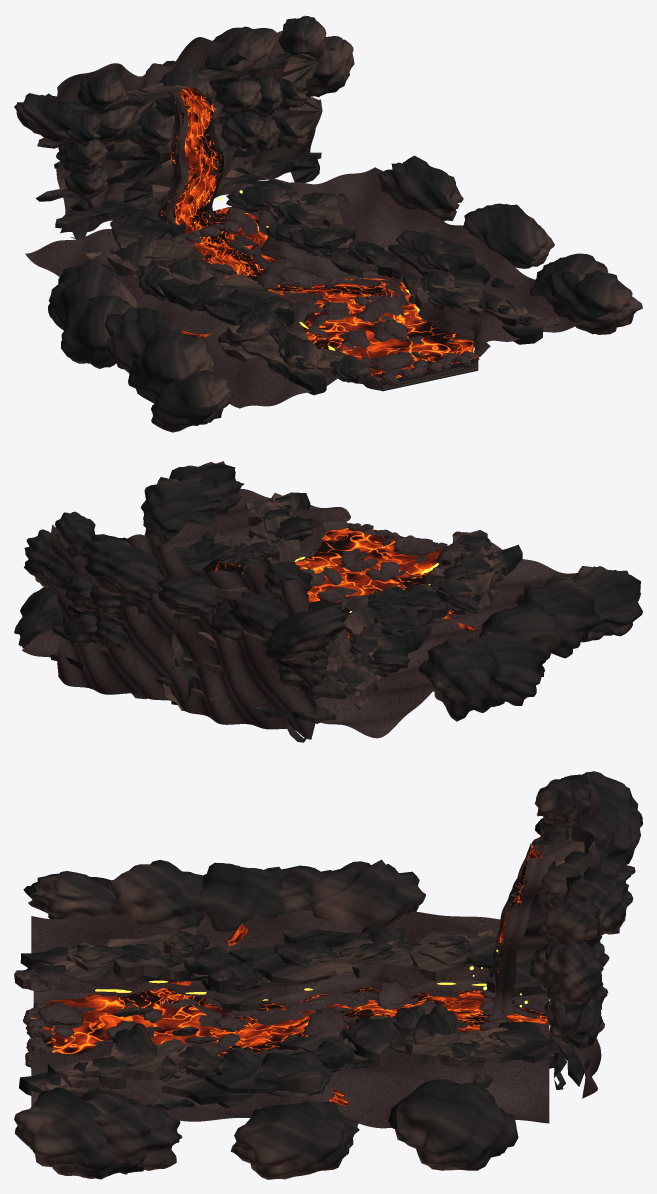
File: b4-magma-river-v16.glb
The picture shows the model from 3 angles, top to bottom: view 1: azimuth 30°, elevation 25°; view 2: azimuth 150°, elevation 25°; view 3: azimuth 270°, elevation 25°; orthographic projection. The views are drawn at different scales.
Visible parts, largest first — view 1: ERODED_BASALT_BANK_1, ERODED_BASALT_BANK_-1, CONTINUOUS_FRACTURED_BASALT_CLIFF, MEANDERING_MOLTEN_CHANNEL, FALLING_MAGMA_CASCADE, MOLTEN_POOL_WIDENING, CAVERN_ROCK_FACE, CAVERN_ROCK_FACE.001, CAVERN_ROCK_FACE.008, CAVERN_ROCK_FACE.005, CAVERN_ROCK_FACE.004, CAVERN_ROCK_FACE.007 (+49 smaller); view 2: CONTINUOUS_FRACTURED_BASALT_CLIFF, ERODED_BASALT_BANK_-1, CAVERN_ROCK_FACE.009, ERODED_BASALT_BANK_1, MOLTEN_POOL_WIDENING, REAR_IRREGULAR_BASALT_OVERHANG.003, CAVERN_ROCK_FACE.006, CAVERN_ROCK_FACE.001, CAVERN_ROCK_FACE.005, REAR_IRREGULAR_BASALT_OVERHANG, CAVERN_ROCK_FACE.007, CAVERN_ROCK_FACE.003 (+34 smaller); view 3: ERODED_BASALT_BANK_1, ERODED_BASALT_BANK_-1, CAVERN_ROCK_FACE.004, CAVERN_ROCK_FACE, CAVERN_ROCK_FACE.008, CAVERN_ROCK_FACE.009, CAVERN_ROCK_FACE.001, MEANDERING_MOLTEN_CHANNEL, MOLTEN_POOL_WIDENING, CAVERN_ROCK_FACE.003, CAVERN_ROCK_FACE.006, CAVERN_ROCK_FACE.005 (+56 smaller).
Boxes of the visible parts, left/top/right/bottom form: ERODED_BASALT_BANK_1: left=230, top=167, right=589, bottom=350; ERODED_BASALT_BANK_-1: left=25, top=229, right=379, bottom=408; CONTINUOUS_FRACTURED_BASALT_CLIFF: left=56, top=15, right=315, bottom=233; MEANDERING_MOLTEN_CHANNEL: left=186, top=207, right=479, bottom=382; FALLING_MAGMA_CASCADE: left=160, top=86, right=221, bottom=233; MOLTEN_POOL_WIDENING: left=304, top=303, right=459, bottom=374; CAVERN_ROCK_FACE: left=463, top=203, right=554, bottom=268; CAVERN_ROCK_FACE.001: left=128, top=328, right=213, bottom=403; CAVERN_ROCK_FACE.008: left=552, top=270, right=642, bottom=334; CAVERN_ROCK_FACE.005: left=151, top=370, right=233, bottom=432; CAVERN_ROCK_FACE.004: left=378, top=155, right=463, bottom=221; CAVERN_ROCK_FACE.007: left=61, top=295, right=134, bottom=368; CONTINUOUS_FRACTURED_BASALT_CLIFF: left=50, top=524, right=316, bottom=739; ERODED_BASALT_BANK_-1: left=315, top=531, right=577, bottom=738; CAVERN_ROCK_FACE.009: left=417, top=636, right=508, bottom=721; ERODED_BASALT_BANK_1: left=22, top=489, right=350, bottom=657; MOLTEN_POOL_WIDENING: left=295, top=532, right=442, bottom=599; REAR_IRREGULAR_BASALT_OVERHANG.003: left=77, top=538, right=165, bottom=602; CAVERN_ROCK_FACE.006: left=140, top=476, right=228, bottom=545; CAVERN_ROCK_FACE.001: left=516, top=575, right=600, bottom=658; CAVERN_ROCK_FACE.005: left=571, top=566, right=642, bottom=642; REAR_IRREGULAR_BASALT_OVERHANG: left=264, top=599, right=347, bottom=660; CAVERN_ROCK_FACE.007: left=479, top=631, right=546, bottom=705; CAVERN_ROCK_FACE.003: left=479, top=602, right=561, bottom=660; ERODED_BASALT_BANK_1: left=31, top=1015, right=549, bottom=1128; ERODED_BASALT_BANK_-1: left=31, top=910, right=549, bottom=1007; CAVERN_ROCK_FACE.004: left=388, top=1079, right=518, bottom=1170; CAVERN_ROCK_FACE: left=230, top=1100, right=359, bottom=1179; CAVERN_ROCK_FACE.008: left=14, top=1087, right=122, bottom=1179; CAVERN_ROCK_FACE.009: left=309, top=859, right=425, bottom=928; CAVERN_ROCK_FACE.001: left=104, top=860, right=204, bottom=929; MEANDERING_MOLTEN_CHANNEL: left=31, top=988, right=549, bottom=1056; MOLTEN_POOL_WIDENING: left=46, top=979, right=237, bottom=1054; CAVERN_ROCK_FACE.003: left=194, top=862, right=291, bottom=932; CAVERN_ROCK_FACE.006: left=86, top=1092, right=182, bottom=1170; CAVERN_ROCK_FACE.005: left=23, top=871, right=115, bottom=919.
Size of the model in its own units: 8.52 by 3.31 by 8.14.
Materials: 7 (4 with a texture image).
